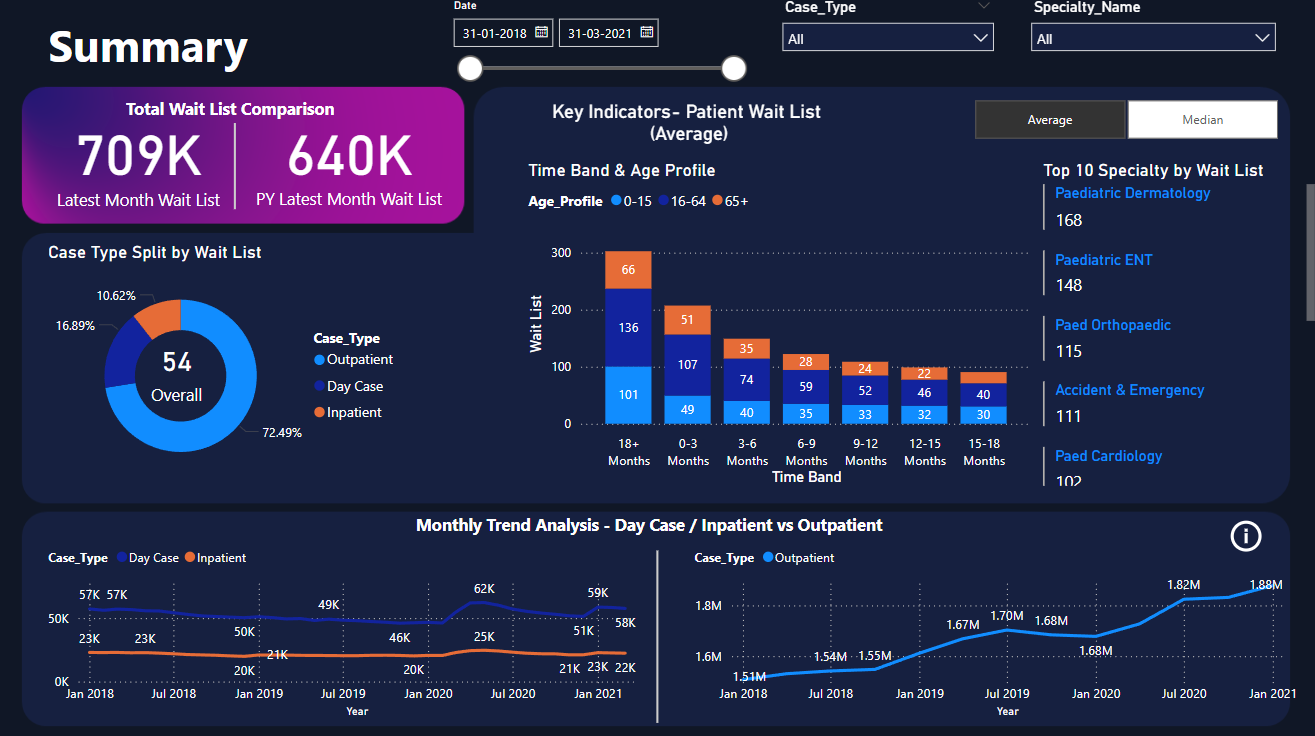

This screenshot's page, from the dashboard's own definition file:
{"tool":"powerbi","page":{"name":"Summary","canvas":[1280,720],"ordinal":0},"visuals":[{"type":"card","fields":{"Values":["Calculation_Table.Latest Month Wait List"]},"box":[38.6,111,203.9,100.1],"z":0},{"type":"card","fields":{"Values":["Calculation_Table.PY Latest Month Wait List"]},"box":[242.5,111,202.7,98.9],"z":1000},{"type":"donutChart","title":"Case Type Split by Wait List","fields":{"Category":["All_Data.Case_Type"],"Y":["Calculation_Table.Avg/Median Wait list"]},"box":[48,240,352,240],"z":2000},{"type":"slicer","fields":{"Values":["Metric.Calc Method"]},"box":[921.7,96.5,342.6,50.7],"z":3000},{"type":"columnChart","title":"Time Band & Age Profile","fields":{"Category":["All_Data.Time_Bands"],"Y":["Calculation_Table.Avg/Median Wait list"],"Series":["All_Data.Age_Profile"]},"box":[512,160,496,320],"z":4000},{"type":"multiRowCard","title":"Top 10 Specialty by Wait List","fields":{"Values":["All_Data.Specialty_Name","Calculation_Table.Avg/Median Wait list"]},"box":[1008,160,272,320],"z":5000},{"type":"card","fields":{"Values":["Calculation_Table.NoDataLeft"]},"box":[141.2,530.8,425.9,167.7],"z":6000},{"type":"lineChart","fields":{"Y":["Calculation_Table.Total_Waitlist"],"Series":["All_Data.Case_Type"],"Category":["Calendar_Table.Date.Variation.Date Hierarchy.Year","Calendar_Table.Date.Variation.Date Hierarchy.Quarter","Calendar_Table.Date.Variation.Date Hierarchy.Month"]},"box":[48.3,524.8,591.2,179.8],"z":7000},{"type":"card","fields":{"Values":["Calculation_Table.NoDataRight"]},"box":[763.7,530.8,425.9,167.7],"z":8000},{"type":"lineChart","fields":{"Y":["Calculation_Table.Total_Waitlist"],"Series":["All_Data.Case_Type"],"Category":["Calendar_Table.Date.Variation.Date Hierarchy.Year","Calendar_Table.Date.Variation.Date Hierarchy.Quarter","Calendar_Table.Date.Variation.Date Hierarchy.Month"]},"box":[672,524.8,592.4,179.8],"z":9000},{"type":"slicer","fields":{"Values":["Calendar_Table.Date"]},"box":[432,0,304,96],"z":10000},{"type":"slicer","fields":{"Values":["All_Data.Case_Type"]},"box":[752,0,224,80],"z":11000},{"type":"slicer","fields":{"Values":["All_Data.Specialty_Name"]},"box":[992,0,256,80],"z":12000},{"type":"textbox","box":[48,16,224,80],"z":13000},{"type":"card","fields":{"Values":["Calculation_Table.Avg/Median Wait list"]},"box":[112.2,319.7,130.3,90.5],"z":14000},{"type":"shape","box":[155.6,125.5,155.6,83.2],"z":15000},{"type":"textbox","box":[403,497.1,474.1,55.5],"z":16000},{"type":"textbox","box":[123.1,95.3,220.8,63.9],"z":17000},{"type":"card","fields":{"Values":["Calculation_Table.Dynamic_title"]},"box":[495.8,90.5,352.3,68.8],"z":18000},{"type":"actionButton","box":[1189.6,504.3,57.9,39.8],"z":19000},{"type":"shape","box":[563.4,538.1,155.6,166.5],"z":20000}]}

Visuals, with their boxes in screenshot pixels (x1, y1, x2, y2), scaled from the page's 1280x720 canvas onto the 1315x736 screenshot:
card - Calculation_Table.Latest Month Wait List: box(40, 113, 249, 216)
card - Calculation_Table.PY Latest Month Wait List: box(249, 113, 457, 215)
"Case Type Split by Wait List" donutChart: box(49, 245, 411, 491)
slicer - Metric.Calc Method: box(947, 99, 1299, 150)
"Time Band & Age Profile" columnChart: box(526, 164, 1036, 491)
"Top 10 Specialty by Wait List" multiRowCard: box(1036, 164, 1314, 491)
card - Calculation_Table.NoDataLeft: box(145, 543, 583, 714)
lineChart - Calculation_Table.Total_Waitlist x All_Data.Case_Type: box(50, 536, 657, 720)
card - Calculation_Table.NoDataRight: box(785, 543, 1222, 714)
lineChart - Calculation_Table.Total_Waitlist x All_Data.Case_Type: box(690, 536, 1299, 720)
slicer - Calendar_Table.Date: box(444, 0, 756, 98)
slicer - All_Data.Case_Type: box(773, 0, 1003, 82)
slicer - All_Data.Specialty_Name: box(1019, 0, 1282, 82)
textbox: box(49, 16, 279, 98)
card - Calculation_Table.Avg/Median Wait list: box(115, 327, 249, 419)
shape: box(160, 128, 320, 213)
textbox: box(414, 508, 901, 565)
textbox: box(126, 97, 353, 163)
card - Calculation_Table.Dynamic_title: box(509, 93, 871, 163)
actionButton: box(1222, 516, 1282, 556)
shape: box(579, 550, 739, 720)
